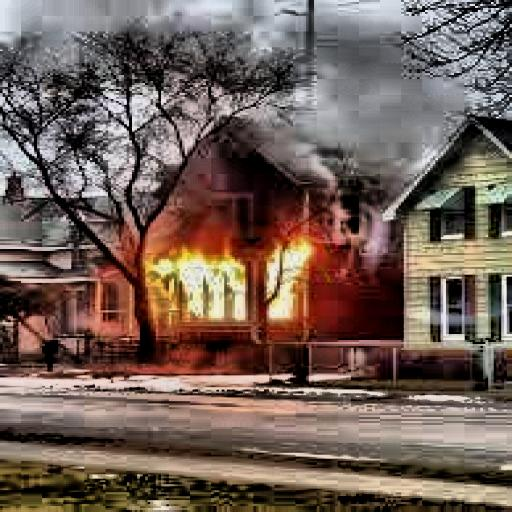fire: (127, 188, 335, 338)
